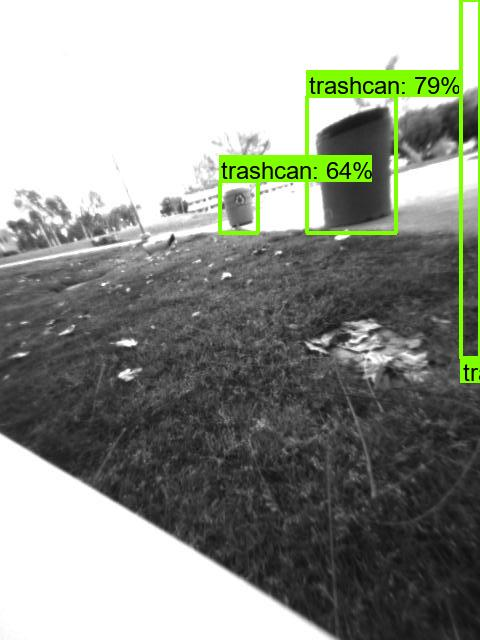trashcan: (312, 100, 397, 225), (222, 185, 258, 229)
